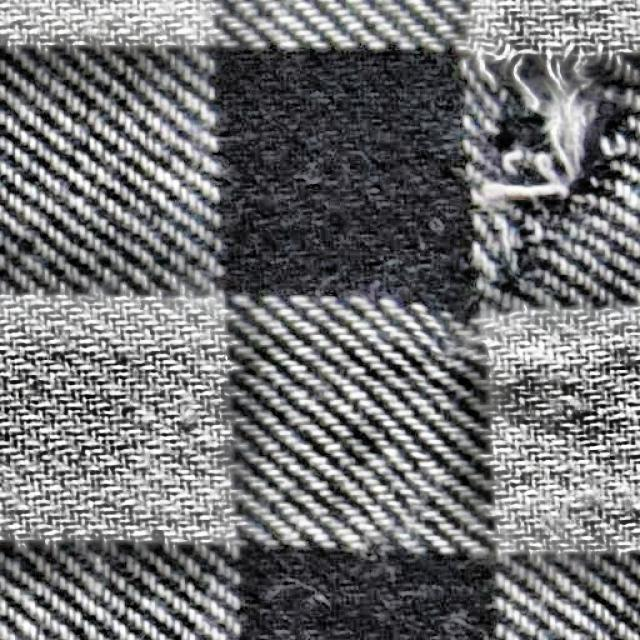Stitch: (436, 38, 639, 308)
